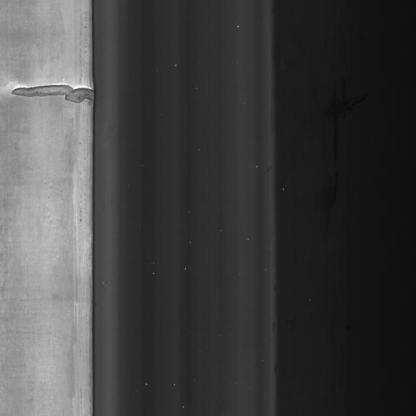crease: (4, 72, 98, 122)
